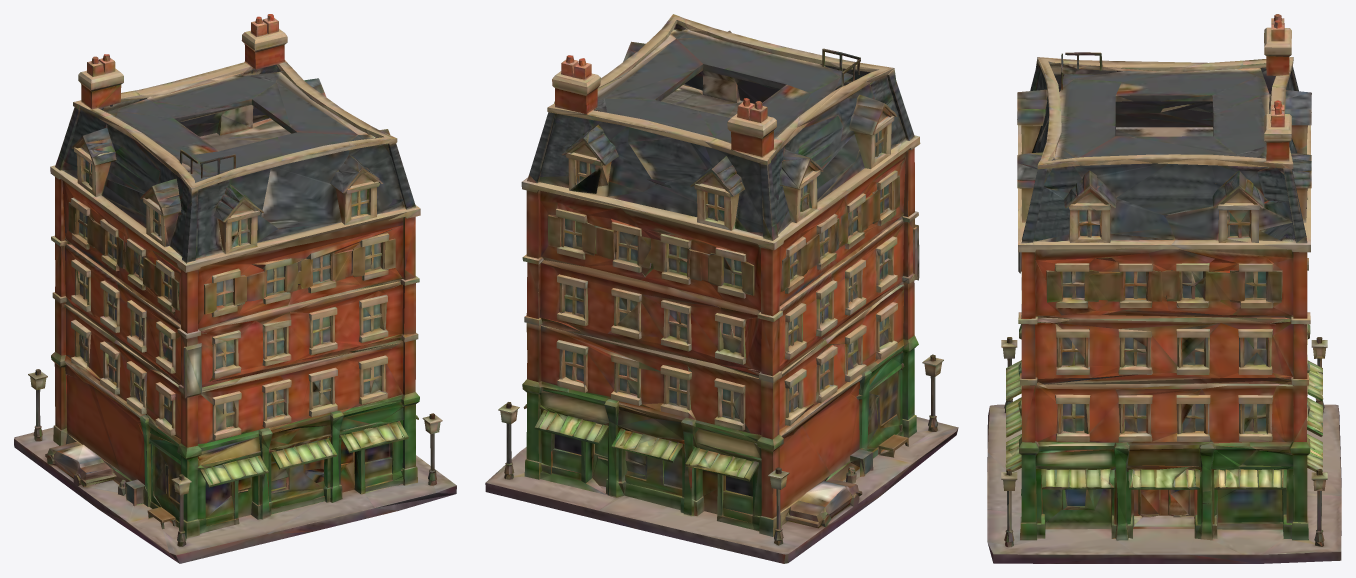
File: town_shops_offices.glb
The picture shows the model from 3 angles, left to right: view 1: azimuth 30°, elevation 25°; view 2: azimuth 150°, elevation 25°; view 3: azimuth 270°, elevation 25°; orthographic projection. The views are drawn at different scales.
Visible parts, largest first — view 1: normalize; view 2: normalize; view 3: normalize.
Boxes of the visible parts, x1=… form: normalize: x1=14, y1=14, x2=456, y2=563; normalize: x1=485, y1=14, x2=958, y2=563; normalize: x1=987, y1=14, x2=1341, y2=563.
Bounding box in the file's own units: 1 × 1.32 × 0.9954.
1 material, 1 textured.
